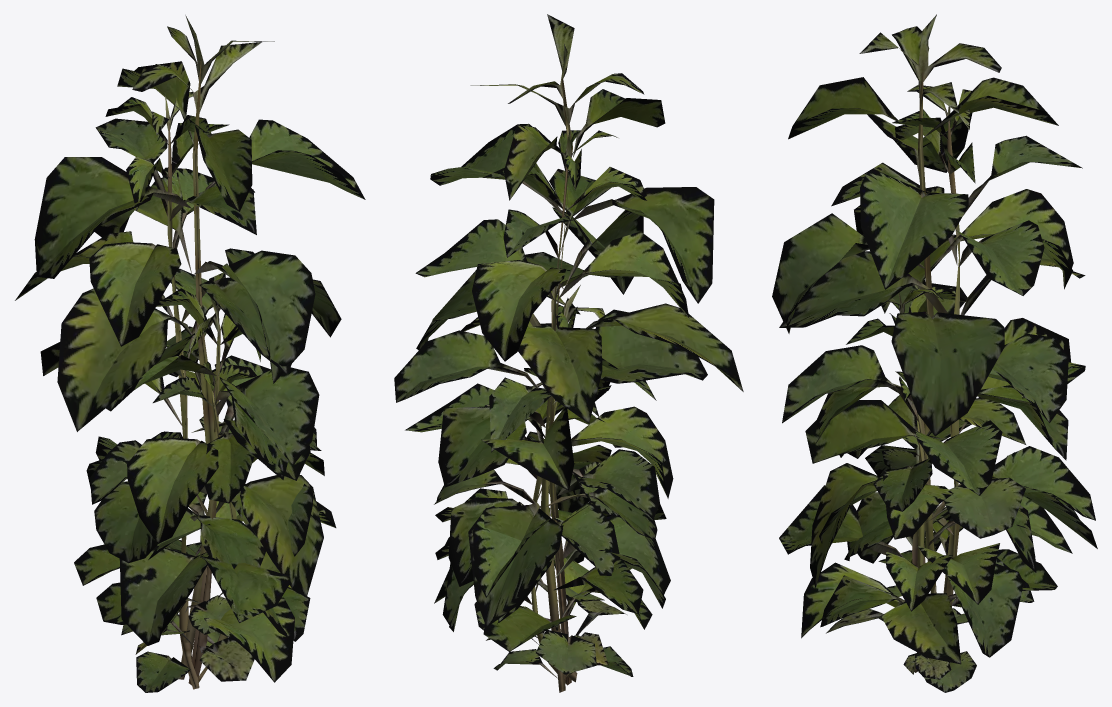
The model's file is nettle_plant.glb.
3 renders of one model, left to right at view 1: azimuth 30°, elevation 25°; view 2: azimuth 150°, elevation 25°; view 3: azimuth 270°, elevation 25°, orthographic. The views are drawn at different scales.
Parts seen in each view (by area): view 1: nettle_plant_nettle_plant_tall_a, nettle_plant_nettle_plant_tall_b, nettle_plant_nettle_plant_medium_a, nettle_plant_nettle_plant_medium_b; view 2: nettle_plant_nettle_plant_tall_b, nettle_plant_nettle_plant_tall_a, nettle_plant_nettle_plant_medium_a, nettle_plant_nettle_plant_medium_b; view 3: nettle_plant_nettle_plant_tall_a, nettle_plant_nettle_plant_tall_b, nettle_plant_nettle_plant_medium_a, nettle_plant_nettle_plant_medium_b.
Boxes of the visible parts, x1,y1,x2,y2 form: nettle_plant_nettle_plant_tall_a: (34, 15, 365, 685); nettle_plant_nettle_plant_tall_b: (15, 92, 310, 689); nettle_plant_nettle_plant_medium_a: (86, 272, 323, 692); nettle_plant_nettle_plant_medium_b: (148, 361, 336, 682); nettle_plant_nettle_plant_tall_b: (394, 129, 707, 682); nettle_plant_nettle_plant_tall_a: (416, 14, 743, 685); nettle_plant_nettle_plant_medium_a: (405, 285, 673, 692); nettle_plant_nettle_plant_medium_b: (435, 368, 622, 683); nettle_plant_nettle_plant_tall_a: (772, 14, 1073, 672); nettle_plant_nettle_plant_tall_b: (779, 85, 1095, 672); nettle_plant_nettle_plant_medium_a: (801, 286, 1097, 692); nettle_plant_nettle_plant_medium_b: (815, 371, 1036, 679).
Size of the model in its own units: 0.4096 by 0.8671 by 0.3891.
Materials: 1 (1 with a texture image).
